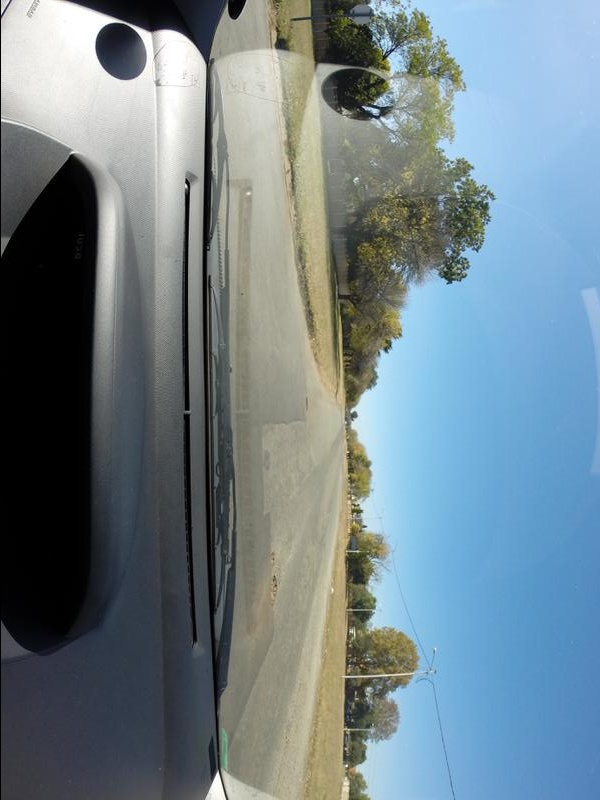pothole: (265, 579, 282, 607), (263, 545, 279, 572)
